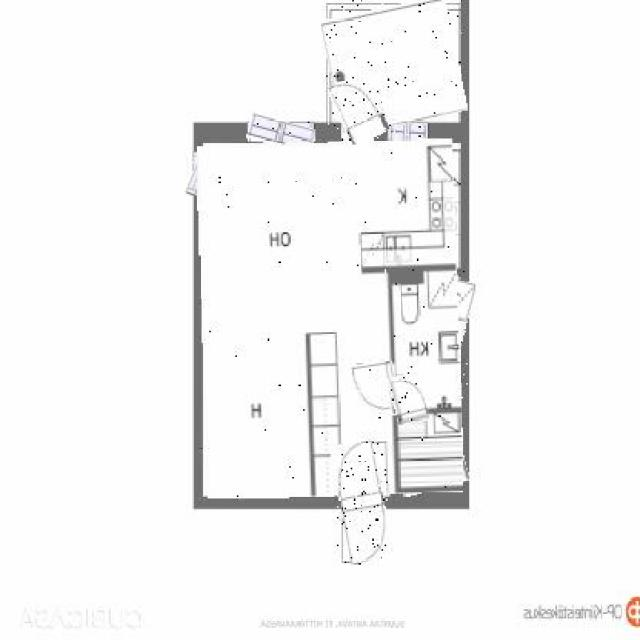door: (337, 442, 389, 564), (334, 74, 383, 143), (352, 362, 397, 418), (391, 372, 426, 423)
window: (248, 117, 315, 151), (386, 122, 426, 143), (189, 151, 206, 195)
zone: (200, 141, 462, 497), (326, 0, 462, 129), (386, 272, 468, 414), (389, 412, 465, 492)
